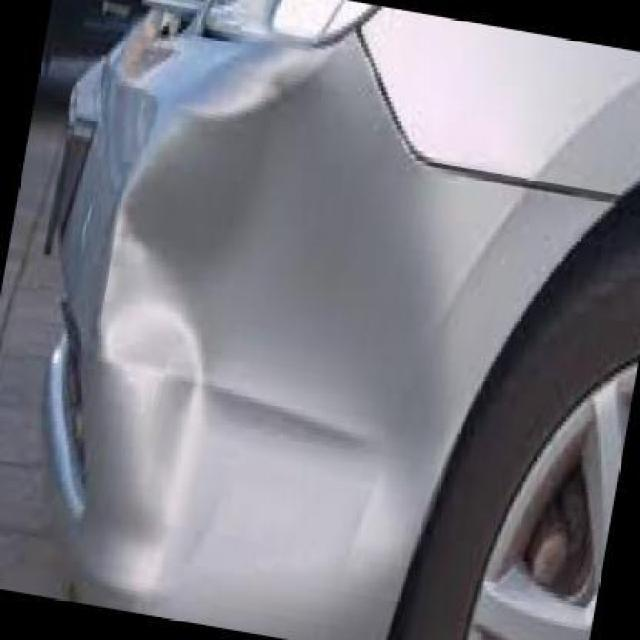dent: (103, 110, 418, 455), (172, 394, 371, 574)
